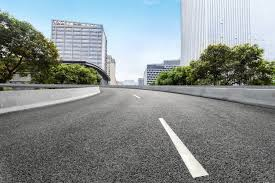strada: (0, 94, 275, 182)
